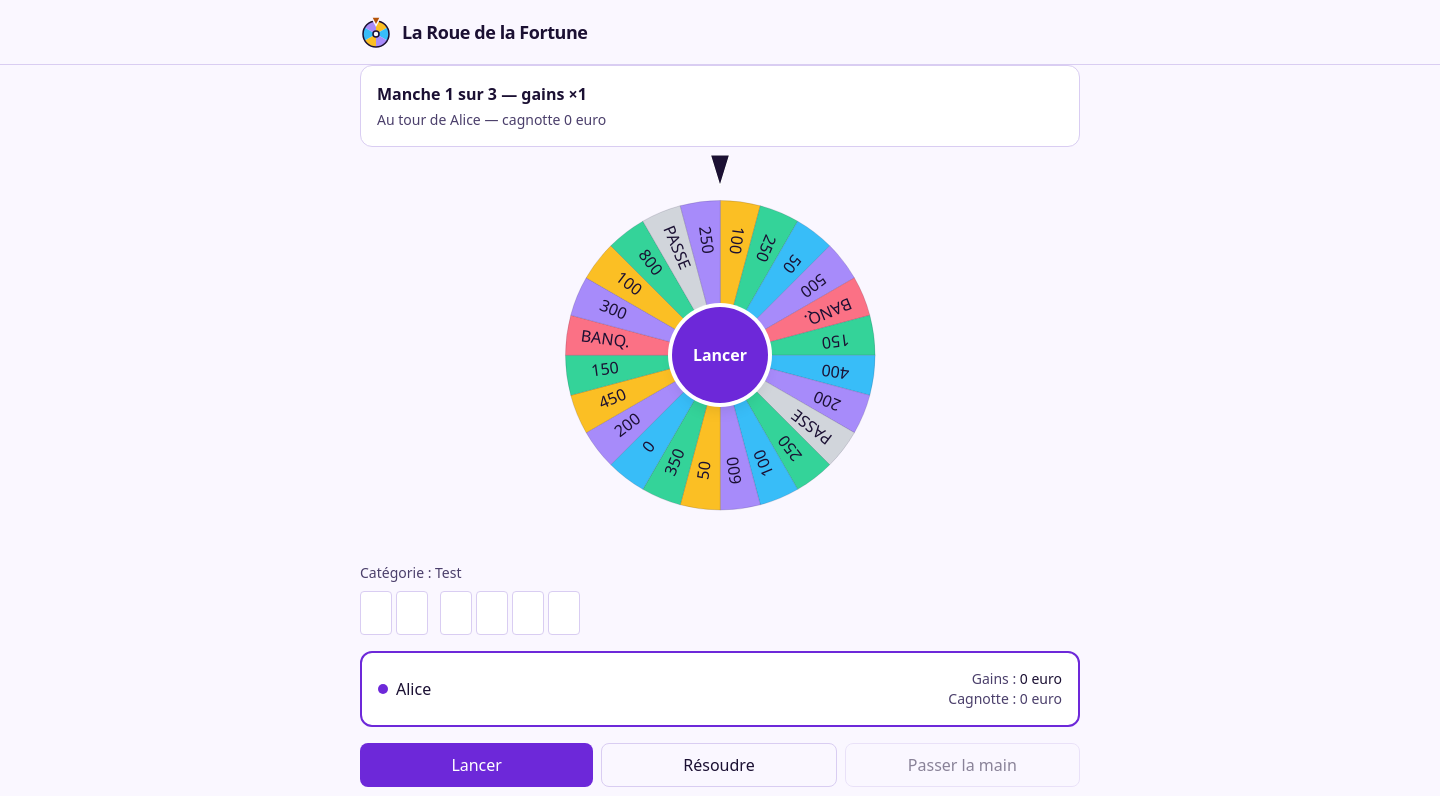
Test: GameRoute › une proposition exacte termine la manche sans appeler le réseau
The image size is (1440, 796).
Click the button "Résoudre".
click(719, 765)  # box [601,743,837,787]
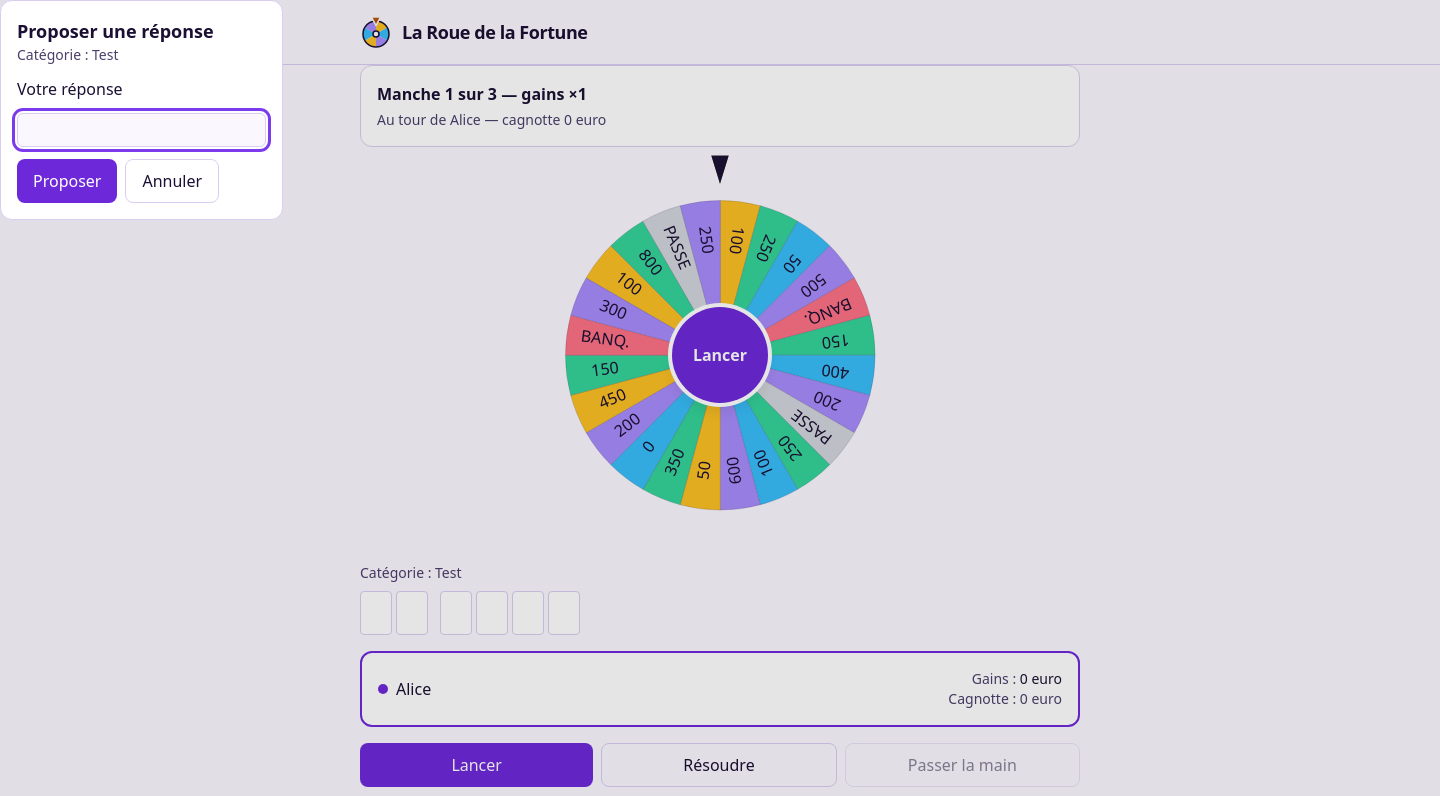
Type "le vent" into the field labelled "Votre réponse".
click(142, 130); type("le vent")  # box [17,113,266,147]
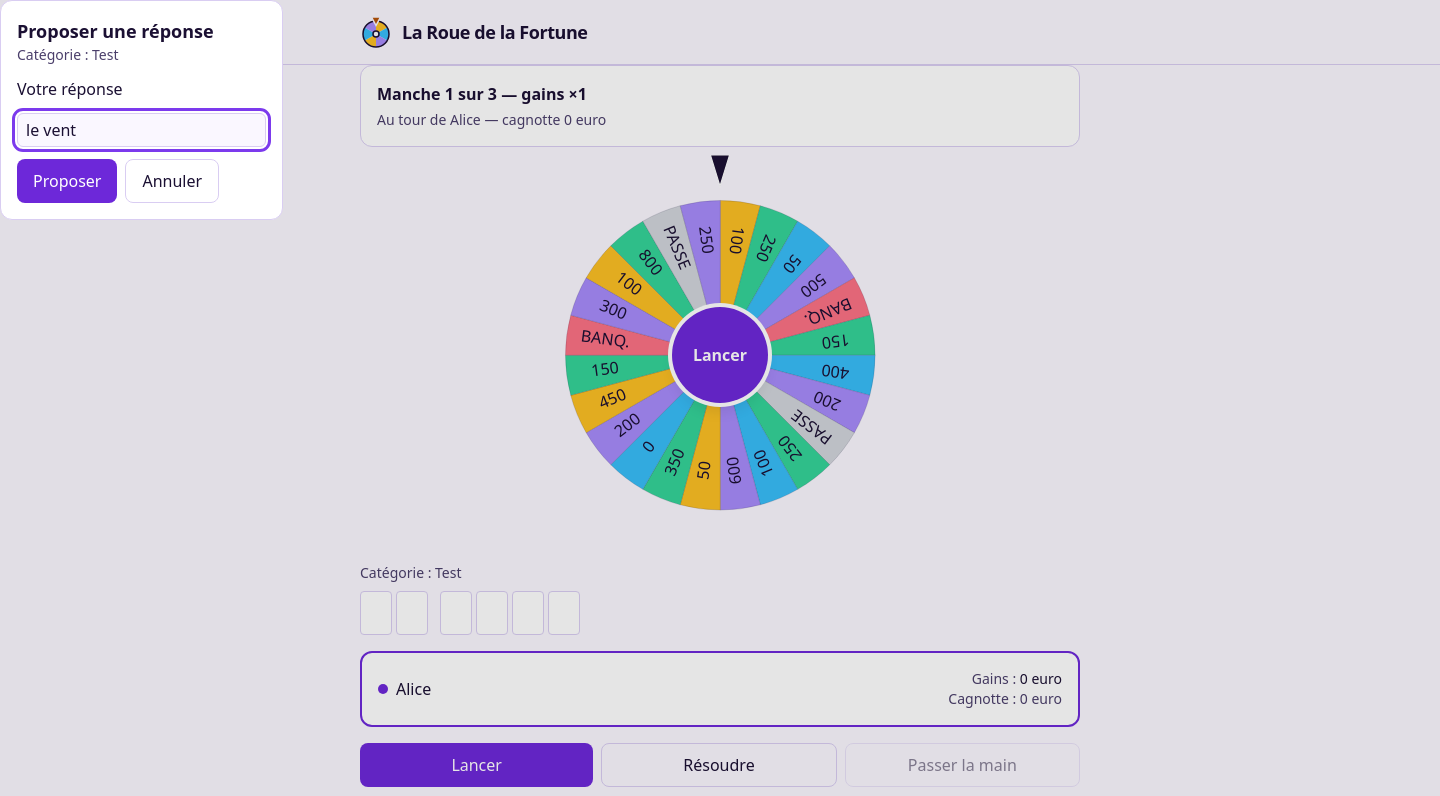
Click the button "Proposer".
click(67, 181)  # box [17,159,118,203]
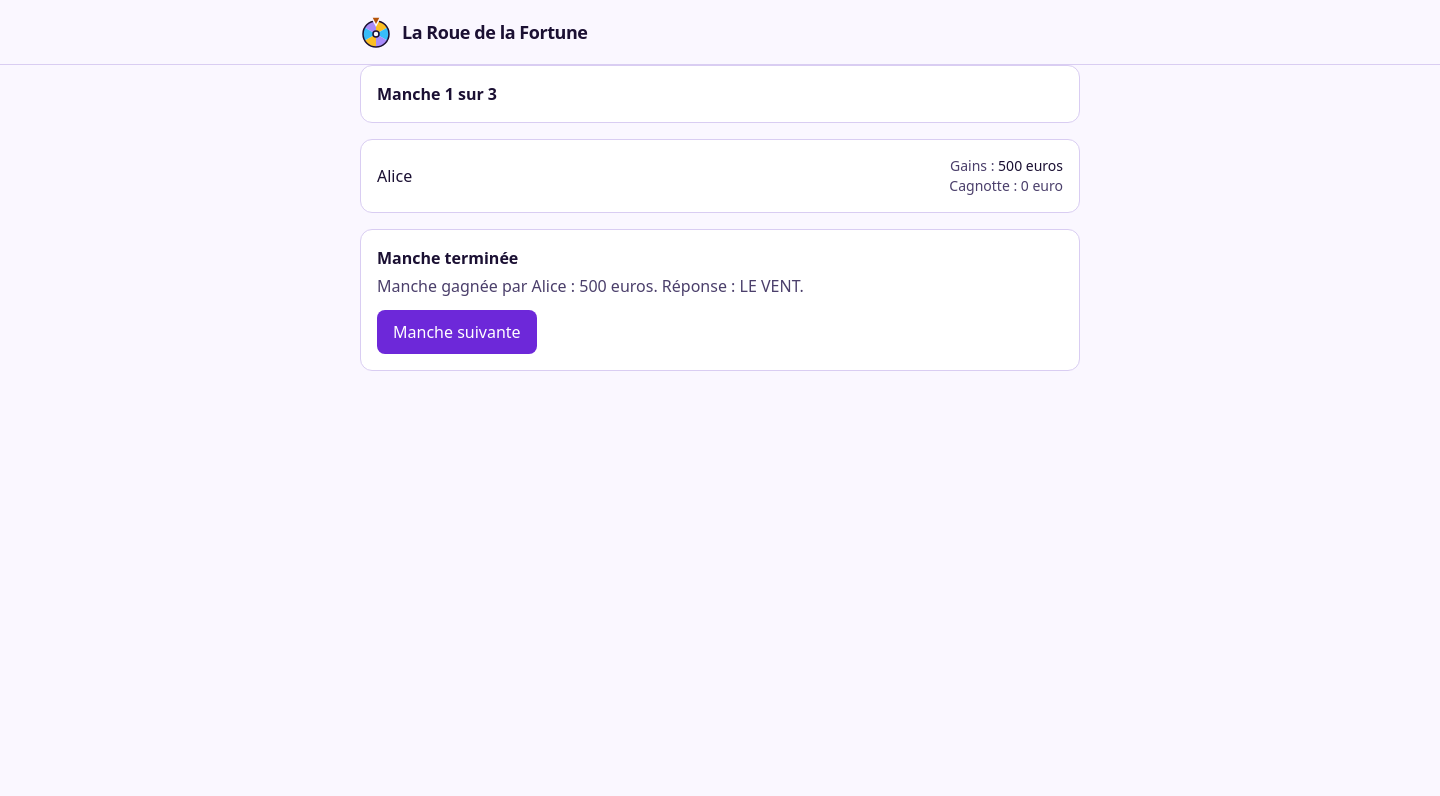
Expected: the heading "Manche terminée" is shown, [377,247,518,269]
Expected: the label labelled "Votre réponse" is gone
